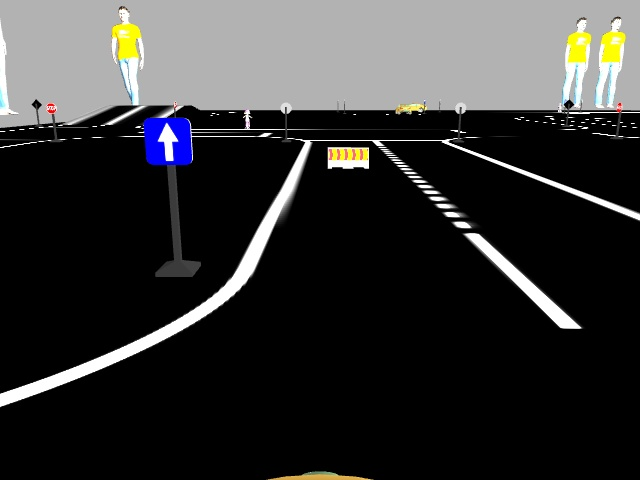ClosedRoadStand: (326, 148, 367, 168)
OneWay: (147, 120, 191, 163)
